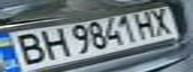1: (115, 14, 139, 43)
4: (103, 16, 124, 47)
8: (87, 20, 109, 51)
9: (66, 22, 93, 54)
B: (3, 30, 51, 65)
H: (30, 26, 72, 61), (130, 10, 163, 38)
X: (145, 8, 178, 35)
